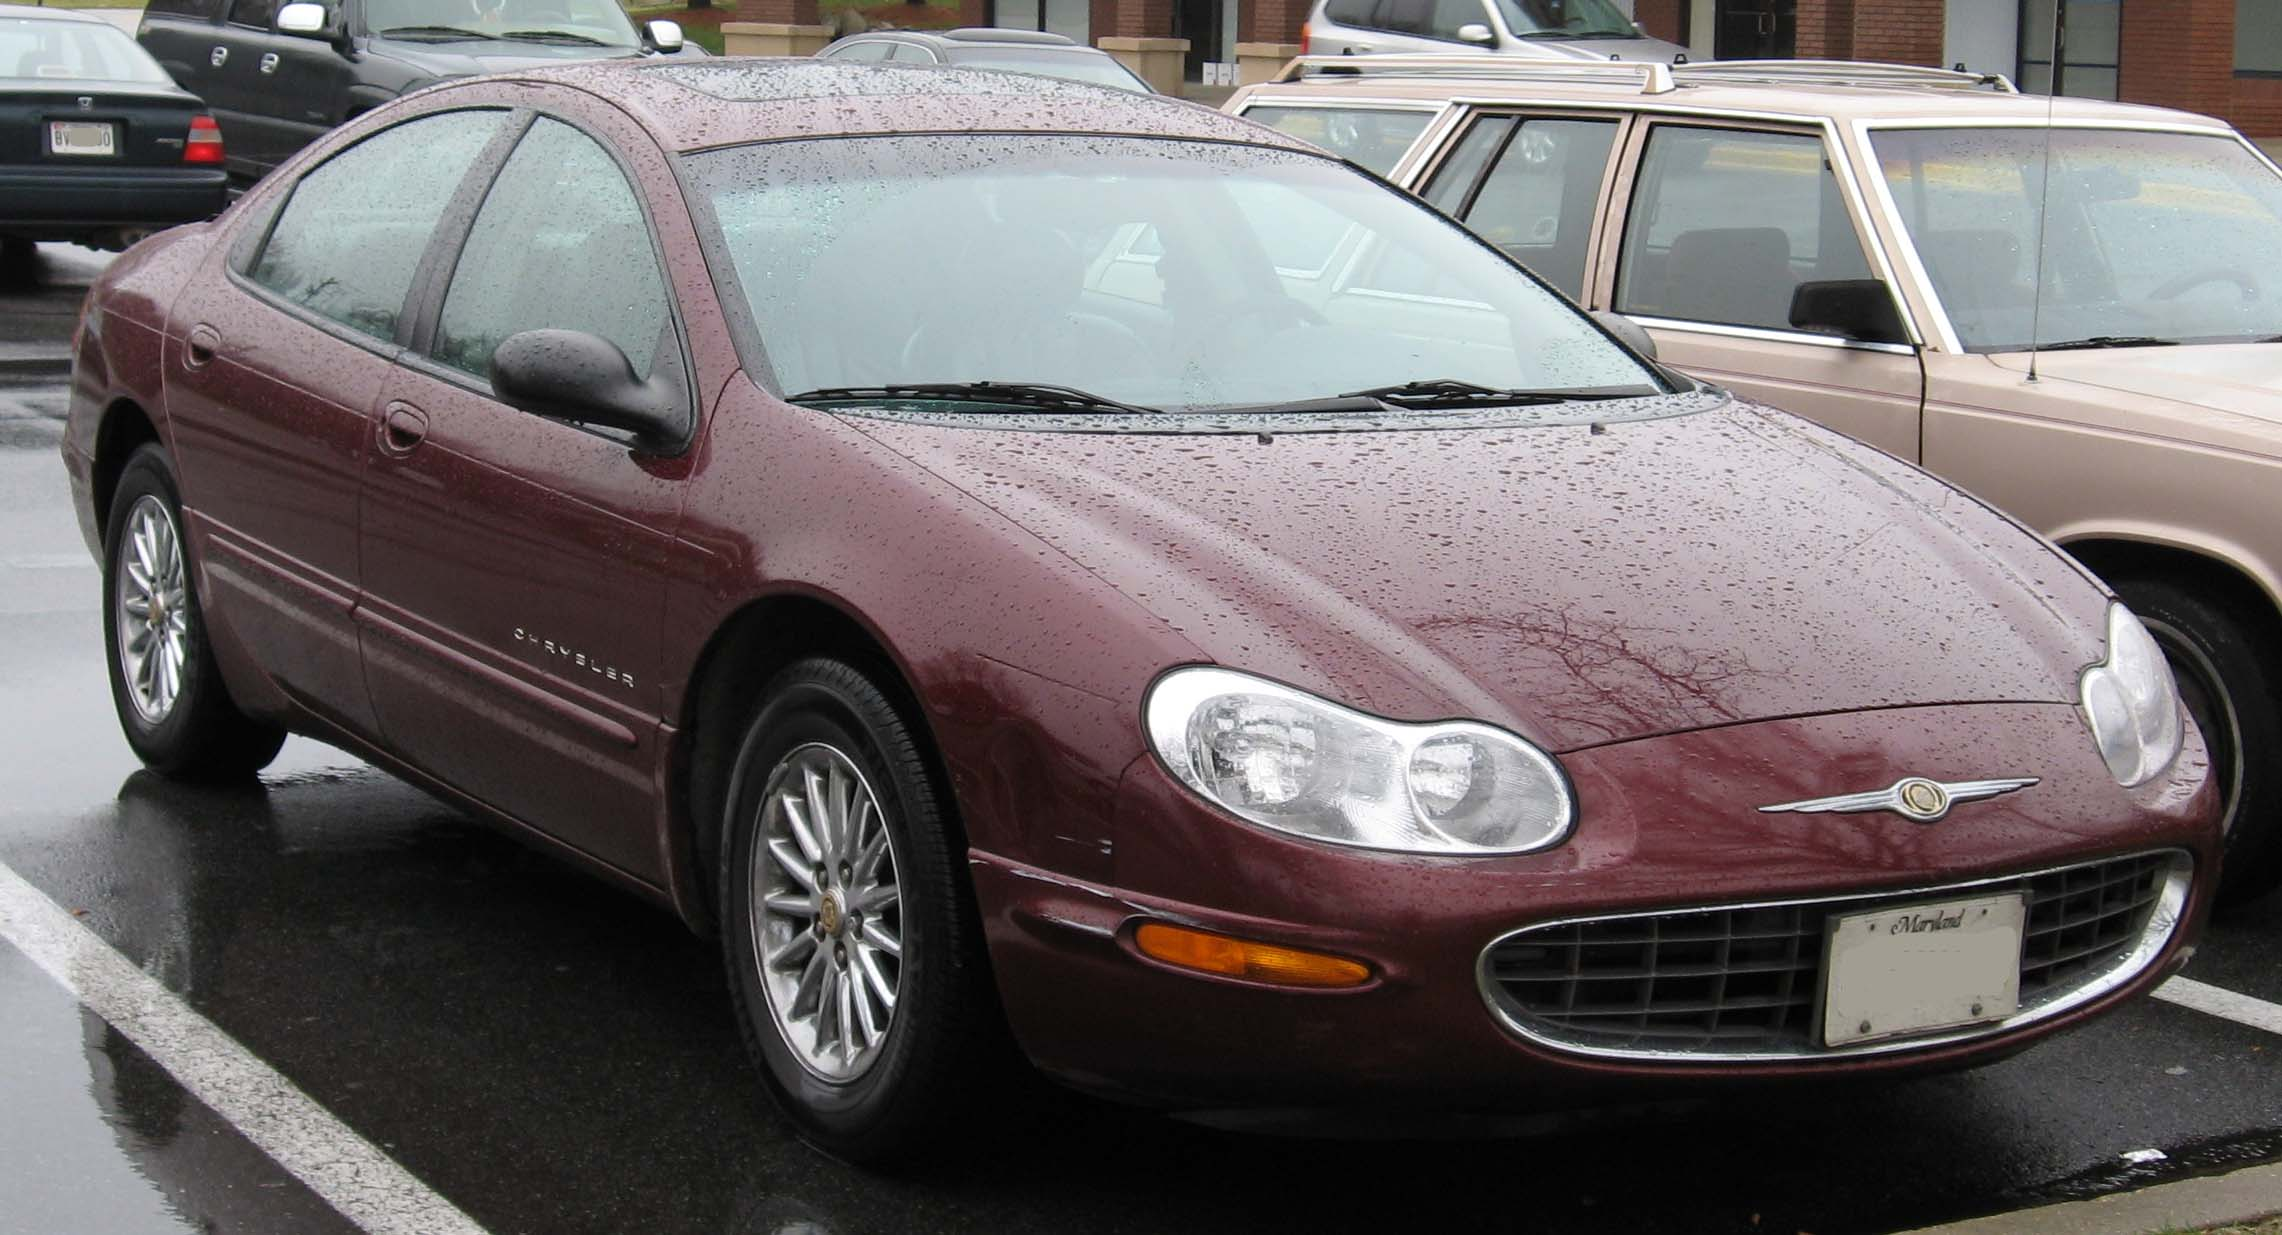car: (58, 35, 2233, 1188), (2, 11, 236, 290)
